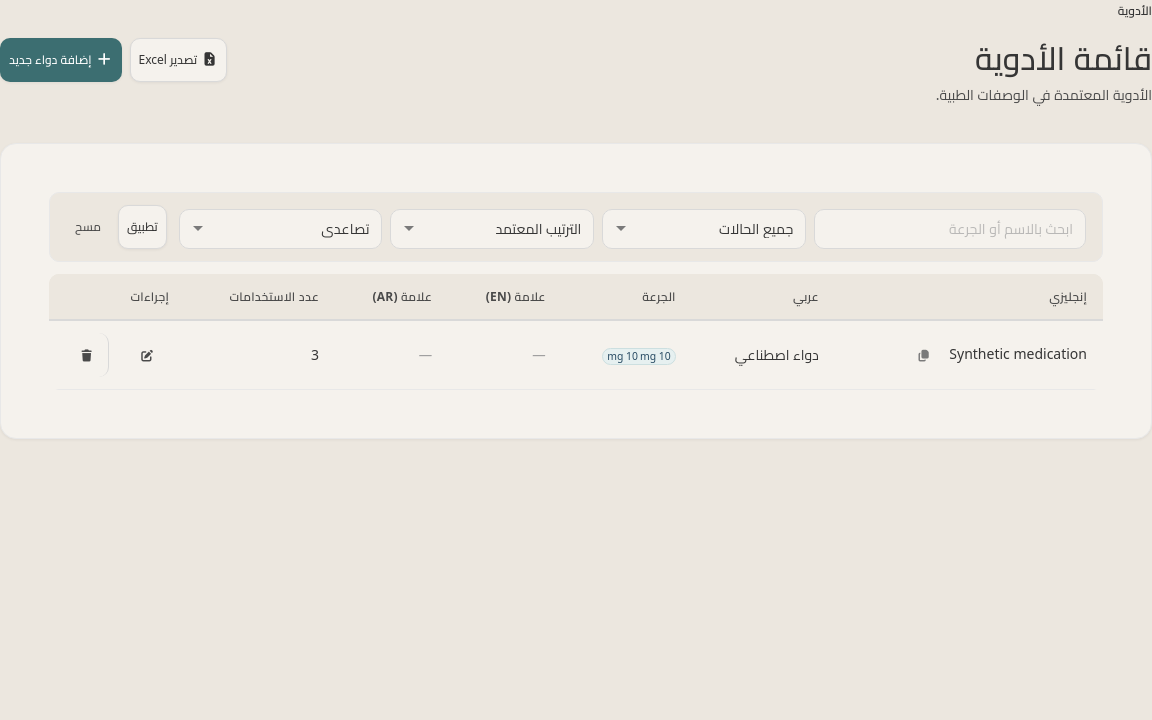
Test: medications actual list and modal CRUD › editing is reachable and sends the opening version and all owned fields
Click the button titled "تعديل" at coordinates (147, 355), box top-left (125, 333), bottom-right (169, 377)
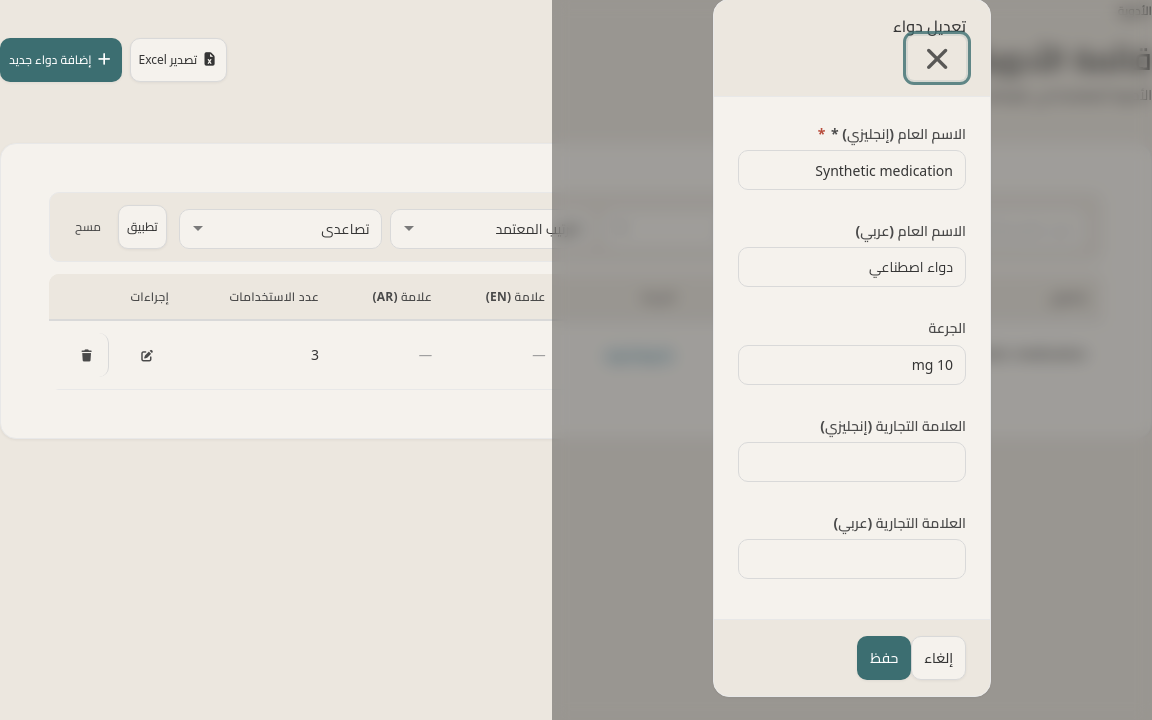
Expected: the field with id "medGenericEnglish" holds "Synthetic medication"
Replace the text in the field with id "medGenericEnglish" with "Synthetic revised" at coordinates (852, 170), box top-left (738, 150), bottom-right (966, 190)
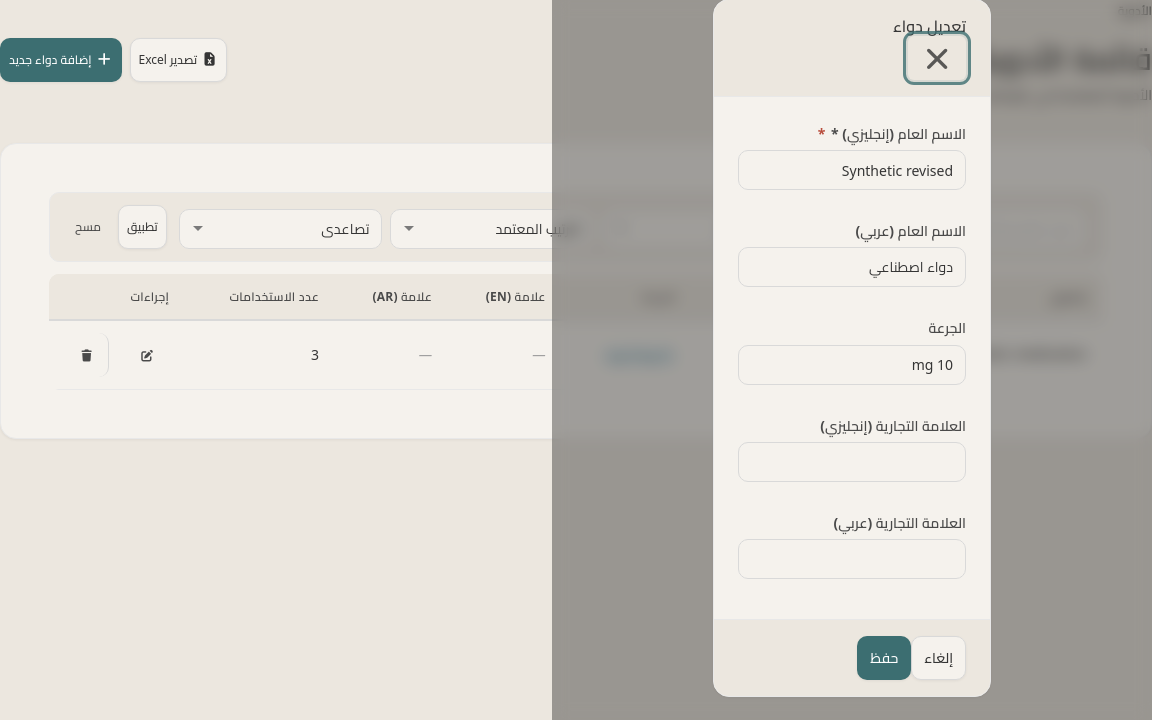
Click the button with class "btn--primary" showing "حفظ" at coordinates (884, 658), box top-left (857, 636), bottom-right (911, 680)
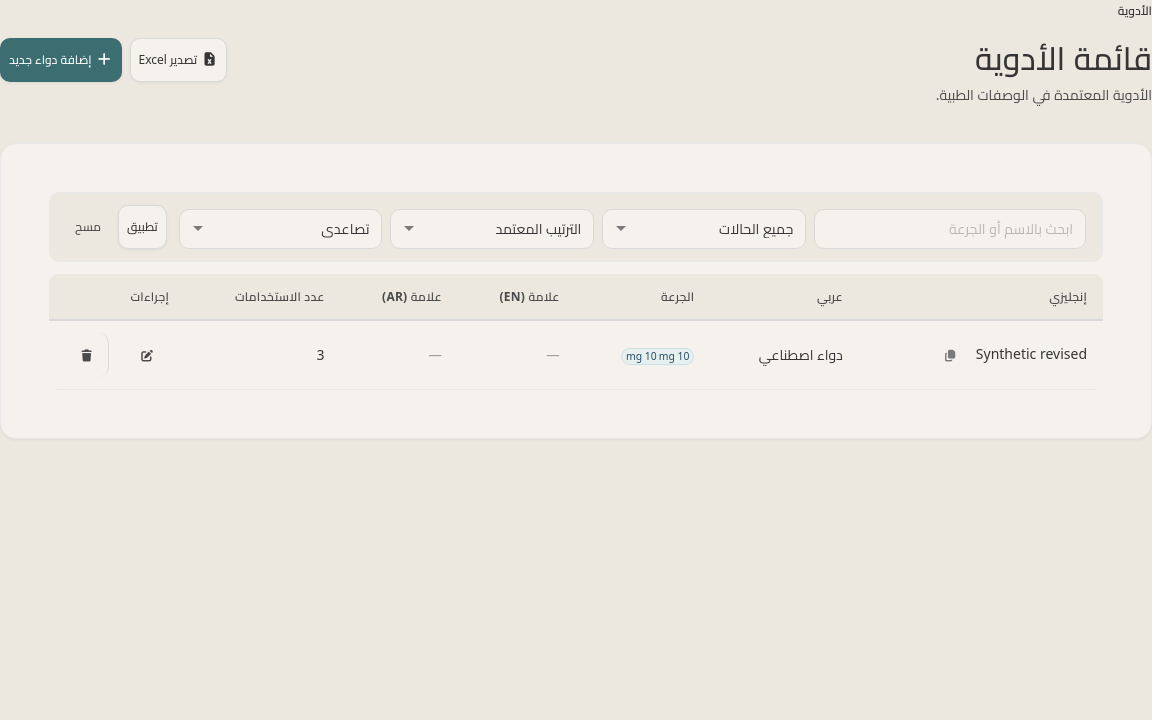
Expected: the dialog is gone
Expected: the table shows "Synthetic revised", top-left (972, 344), bottom-right (1087, 364)
